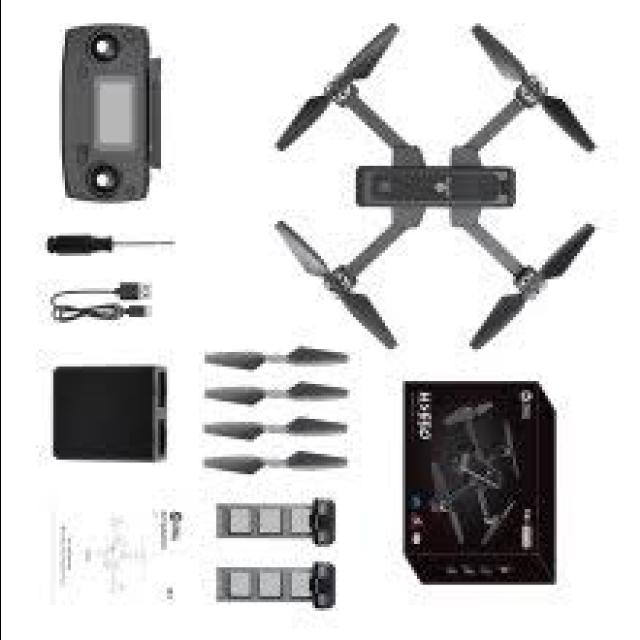drone: (259, 17, 602, 359)
